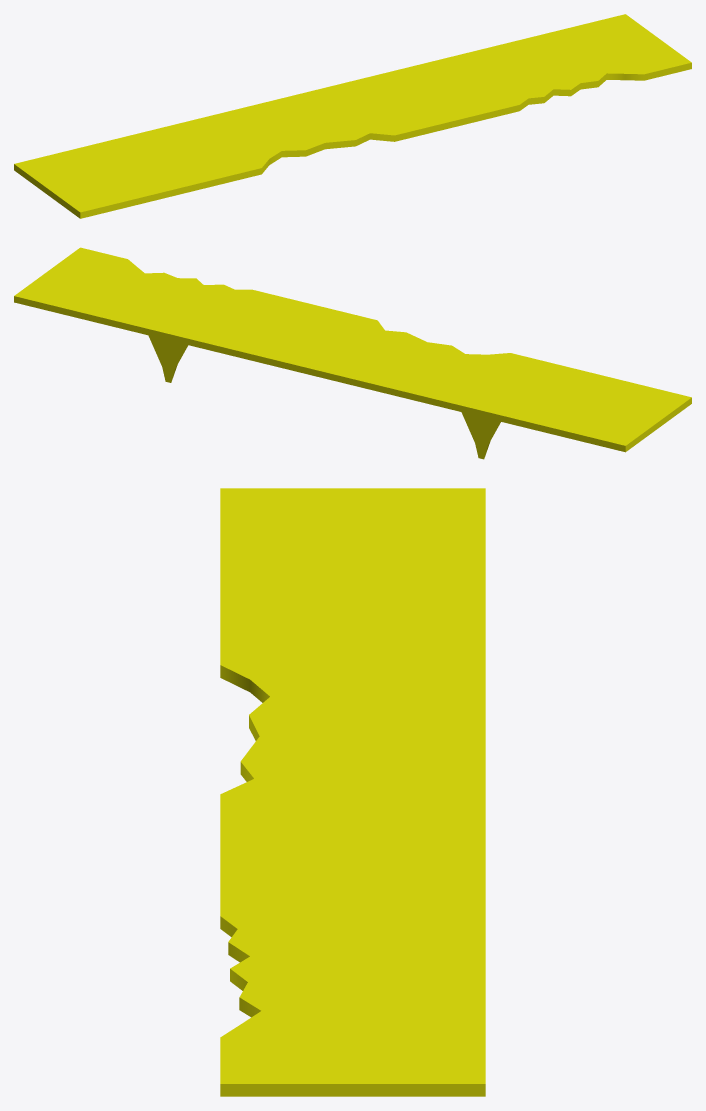
File: PrateleiraLabA(Var2).fbx
3 renders of one model, top to bottom at view 1: azimuth 30°, elevation 25°; view 2: azimuth 150°, elevation 25°; view 3: azimuth 270°, elevation 25°, orthographic. The views are drawn at different scales.
Visible parts, largest first — view 1: Prateleira2; view 2: Prateleira2; view 3: Prateleira2.
Boxes of the visible parts, x1,y1,x2,y2 form: Prateleira2: [14, 14, 691, 218]; Prateleira2: [14, 247, 691, 459]; Prateleira2: [220, 488, 485, 1096].
Bounding box in the file's own units: 3.91 × 0.3315 × 0.734.
